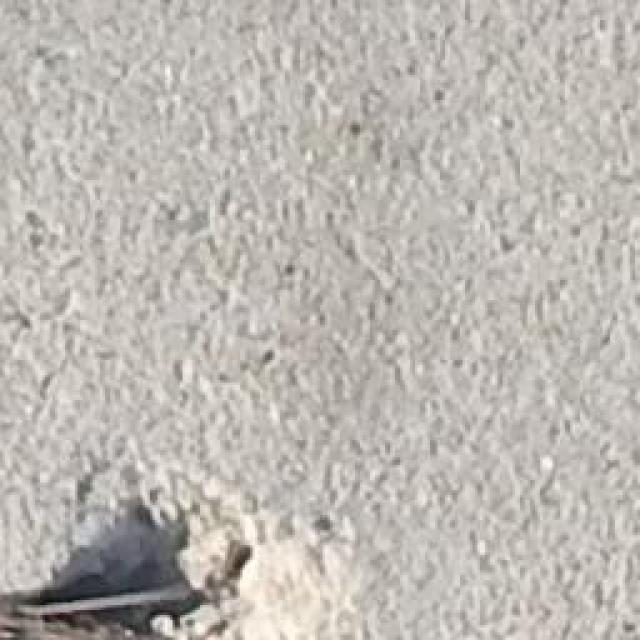concrete-crack: (0, 482, 259, 640)
